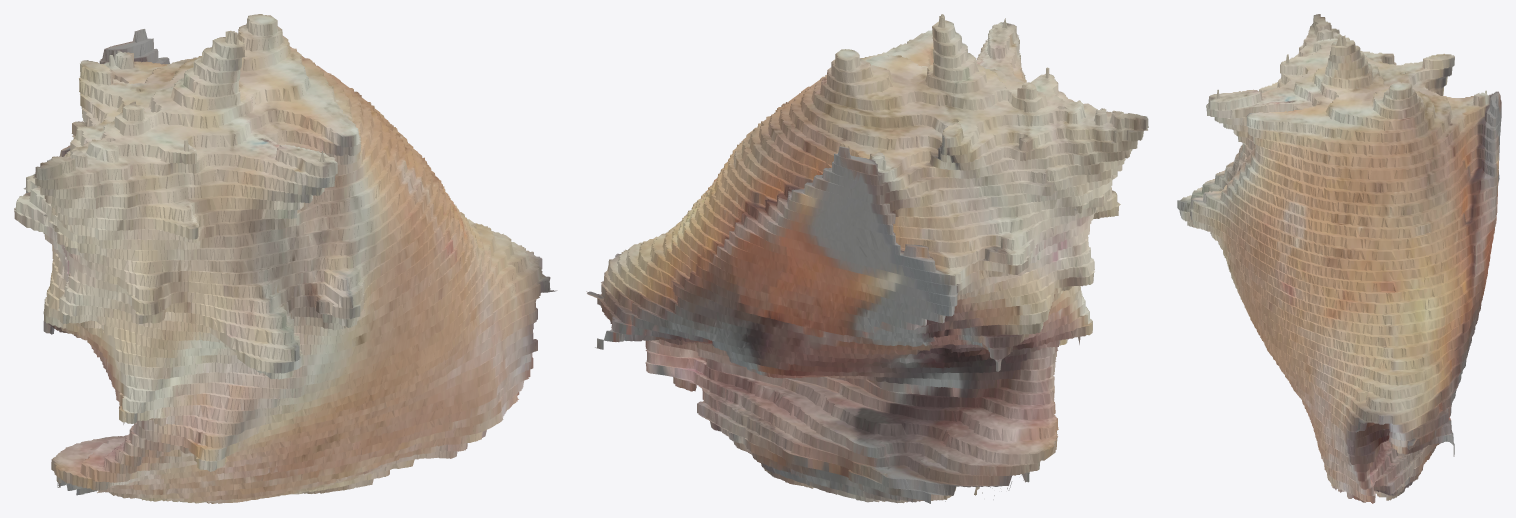
The model's file is Malla_con_textura_1.glb.
3 views of the same model, side by side, from view 1: azimuth 30°, elevation 25°; view 2: azimuth 150°, elevation 25°; view 3: azimuth 270°, elevation 25° (orthographic). The views are drawn at different scales.
Bounding box in the file's own units: 7 × 6.12 × 4.5.
1 material, 1 textured.
